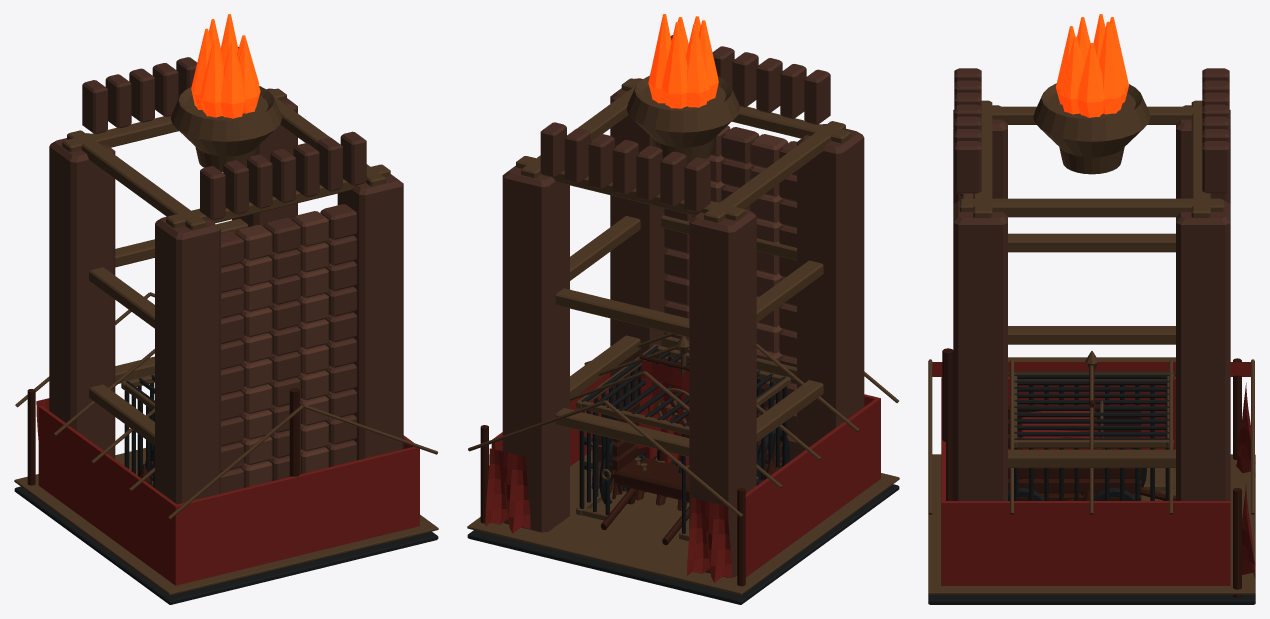
Rendered from blood_iron.glb.
3 views of the same model, side by side, from view 1: azimuth 30°, elevation 25°; view 2: azimuth 150°, elevation 25°; view 3: azimuth 270°, elevation 25° (orthographic). The views are drawn at different scales.
Parts seen in each view (by area): view 1: BeaconTower_stone, CommandTent_cloth, BeaconTower_trim, BeaconTower_stone_light, BeaconTower_glow, BeaconTower_dark, CommandTent_trim, CommandTent_wood, PrisonCage_dark; view 2: BeaconTower_stone, BeaconTower_trim, CommandTent_cloth, PrisonCage_dark, BeaconTower_stone_light, BeaconTower_glow, BeaconTower_dark, SiegeWagon_wood, CommandTent_trim, PrisonCage_trim, WarBanner_cloth, CommandTent_wood (+2 smaller); view 3: BeaconTower_stone, BeaconTower_trim, CommandTent_cloth, PrisonCage_dark, BeaconTower_glow, SiegeWagon_wood, BeaconTower_dark, CommandTent_wood, CommandTent_trim, PrisonCage_trim, SiegeWagon_cloth, SiegeWagon_dark.
Boxes of the visible parts, left/top/right/bottom form: BeaconTower_stone: left=49, top=47, right=403, bottom=504; CommandTent_cloth: left=36, top=398, right=419, bottom=585; BeaconTower_trim: left=14, top=86, right=438, bottom=595; BeaconTower_stone_light: left=235, top=211, right=328, bottom=487; BeaconTower_glow: left=191, top=14, right=260, bottom=118; BeaconTower_dark: left=14, top=486, right=438, bottom=604; CommandTent_trim: left=15, top=292, right=437, bottom=519; CommandTent_wood: left=27, top=387, right=299, bottom=493; PrisonCage_dark: left=124, top=375, right=154, bottom=484; BeaconTower_stone: left=502, top=35, right=864, bottom=577; BeaconTower_trim: left=467, top=76, right=899, bottom=595; CommandTent_cloth: left=485, top=372, right=880, bottom=582; PrisonCage_dark: left=579, top=345, right=787, bottom=533; BeaconTower_stone_light: left=692, top=125, right=788, bottom=468; BeaconTower_glow: left=648, top=14, right=718, bottom=108; BeaconTower_dark: left=467, top=484, right=899, bottom=604; SiegeWagon_wood: left=600, top=370, right=782, bottom=545; CommandTent_trim: left=468, top=333, right=898, bottom=517; PrisonCage_trim: left=576, top=344, right=790, bottom=541; WarBanner_cloth: left=638, top=360, right=689, bottom=448; CommandTent_wood: left=480, top=425, right=745, bottom=593; BeaconTower_stone: left=953, top=68, right=1230, bottom=500; BeaconTower_trim: left=928, top=83, right=1255, bottom=594; CommandTent_cloth: left=932, top=362, right=1255, bottom=585; PrisonCage_dark: left=1014, top=374, right=1169, bottom=500; BeaconTower_glow: left=1056, top=14, right=1128, bottom=117; SiegeWagon_wood: left=1008, top=405, right=1175, bottom=500; BeaconTower_dark: left=928, top=594, right=1255, bottom=604; CommandTent_wood: left=942, top=348, right=1241, bottom=597; CommandTent_trim: left=928, top=359, right=1254, bottom=514; PrisonCage_trim: left=1014, top=373, right=1173, bottom=500; SiegeWagon_cloth: left=1020, top=406, right=1095, bottom=493; SiegeWagon_dark: left=1008, top=448, right=1146, bottom=500.
Size of the model in its own units: 8 by 14 by 8.
